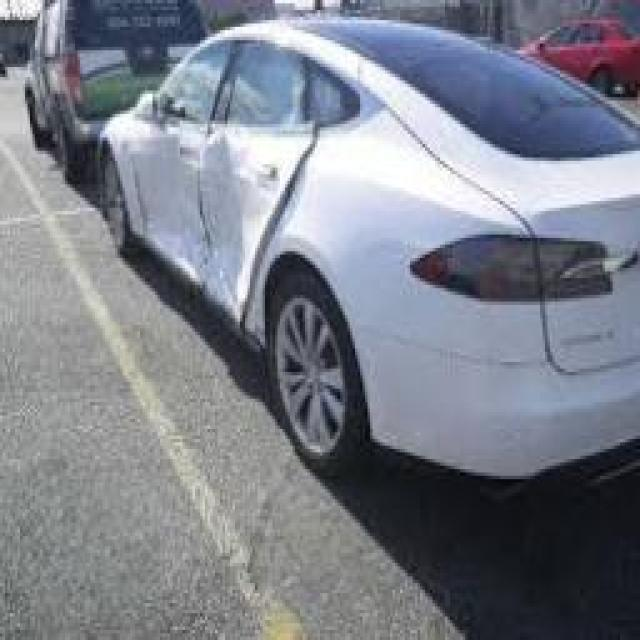Door: (205, 40, 298, 328)
